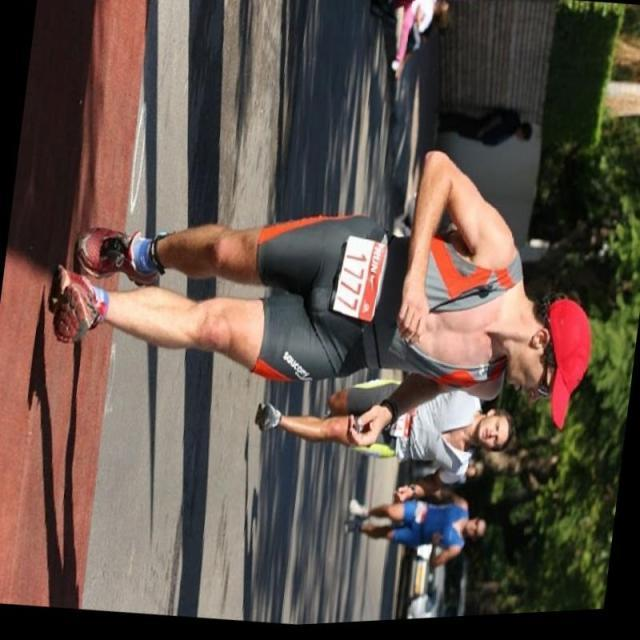dorsal: (328, 230, 395, 337)
